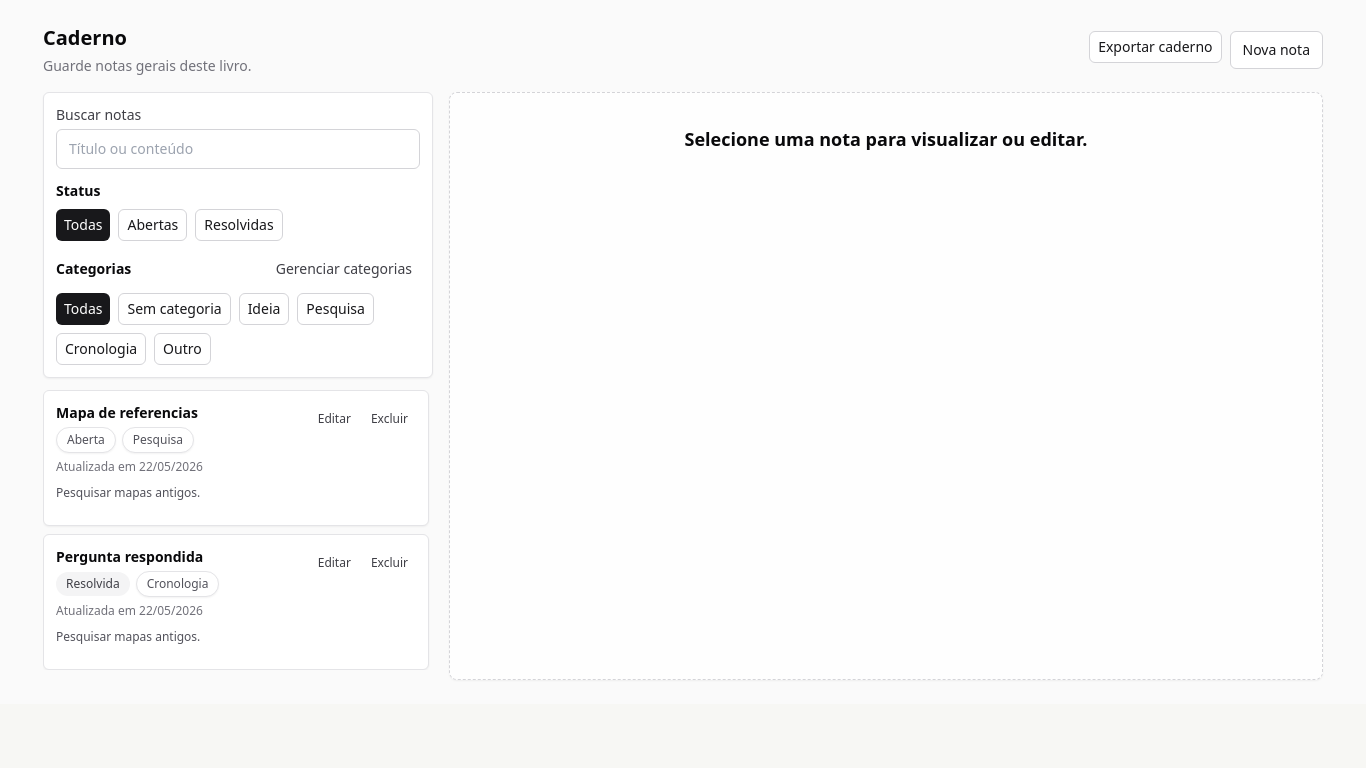
it: NotebookPanel writing layout and status › categorias iniciais exibem acoes de renomear e excluir sem badge Padrao
Click the button "Gerenciar categorias".
click(344, 269)  # box [268,253,420,285]
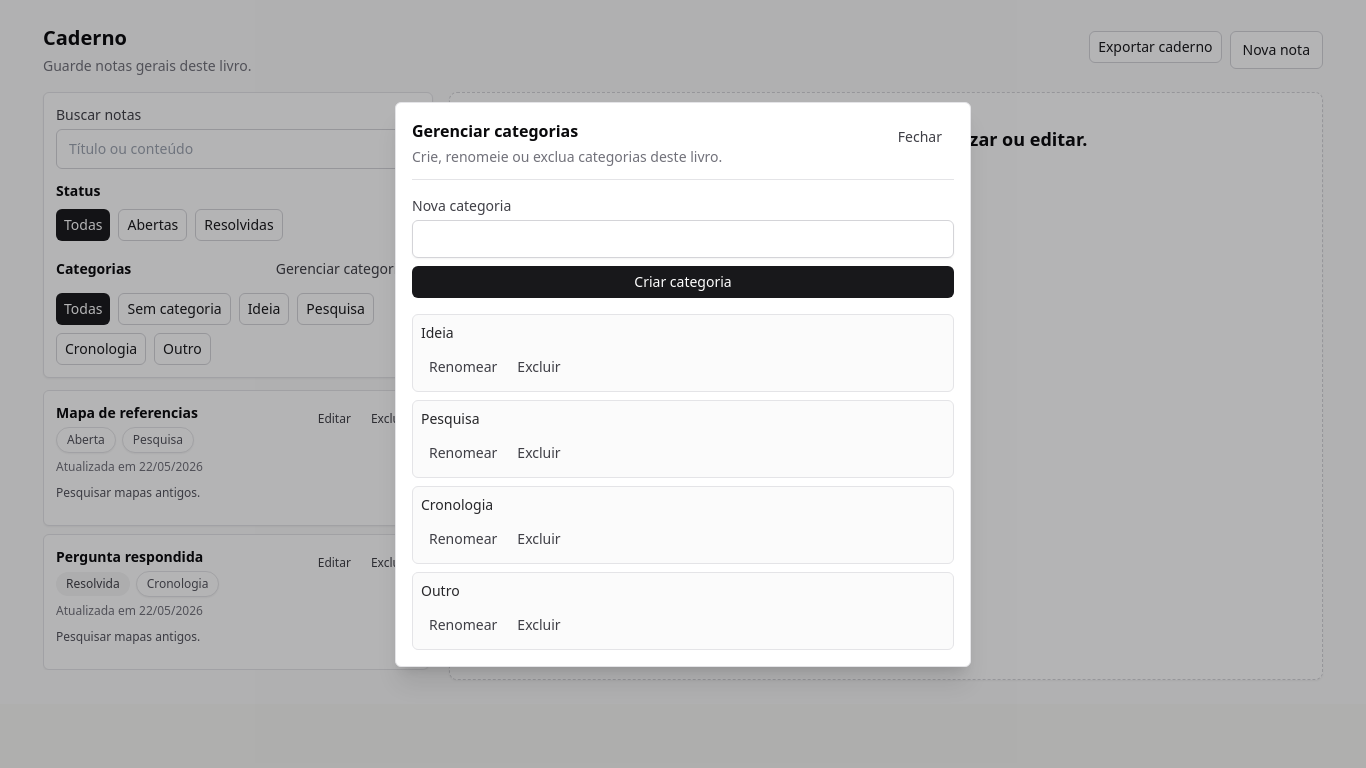
Expected: the 2nd button "Renomear" is shown, [421,436,505,468]
Expected: the 2nd button "Excluir" is shown, [509,436,569,468]
